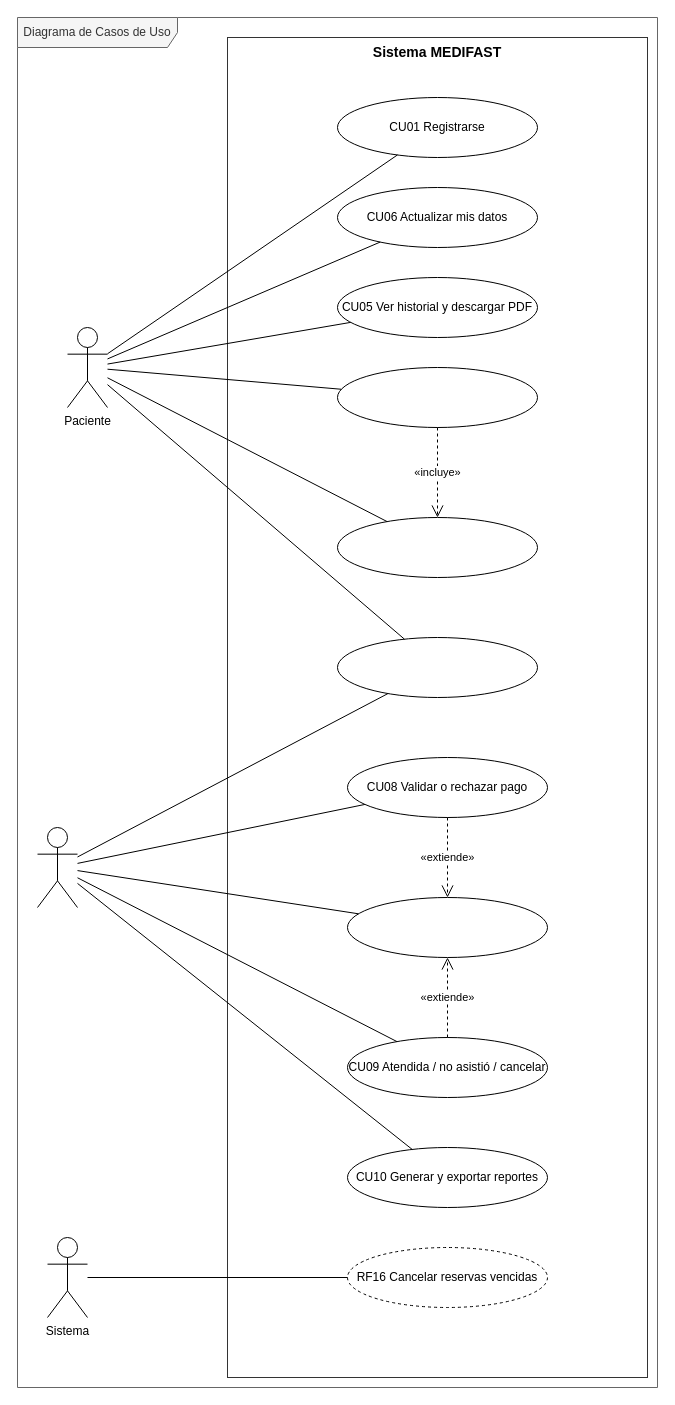
This 675x1405 diagram has some shape labels left out. Here are the shapes that lost their labels. From the top down, the box of each, then its label:
(336, 366, 538, 428): CU04 Reservar y adjuntar constancia
(336, 516, 538, 578): CU03 Consultar disponibilidad
(336, 636, 538, 698): CU02 Iniciar / cerrar sesión
(36, 826, 78, 908): Médico
(346, 896, 548, 958): CU07 Consultar agenda
